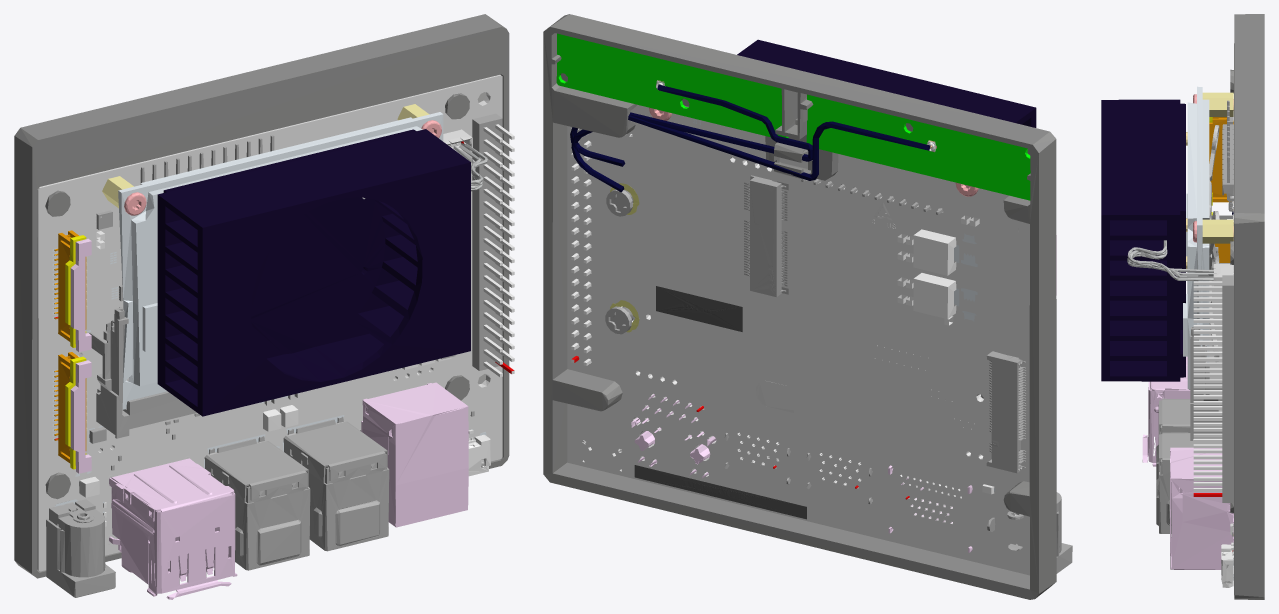
3 renders of one model, left to right at view 1: azimuth 30°, elevation 25°; view 2: azimuth 150°, elevation 25°; view 3: azimuth 270°, elevation 25°, orthographic. The views are drawn at different scales.
Visible parts, largest first — view 1: obj15; view 2: obj15; view 3: obj15.
Boxes of the visible parts, x1,y1,x2,y2 form: obj15: (14,14,514,599); obj15: (543,14,1072,599); obj15: (1101,14,1264,599).
Bounding box in the file's own units: 10288 × 9096 × 3466.
